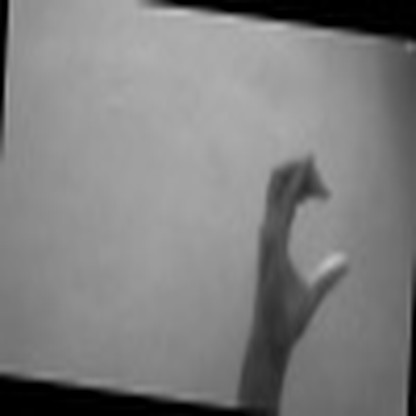c: (250, 148, 356, 346)
